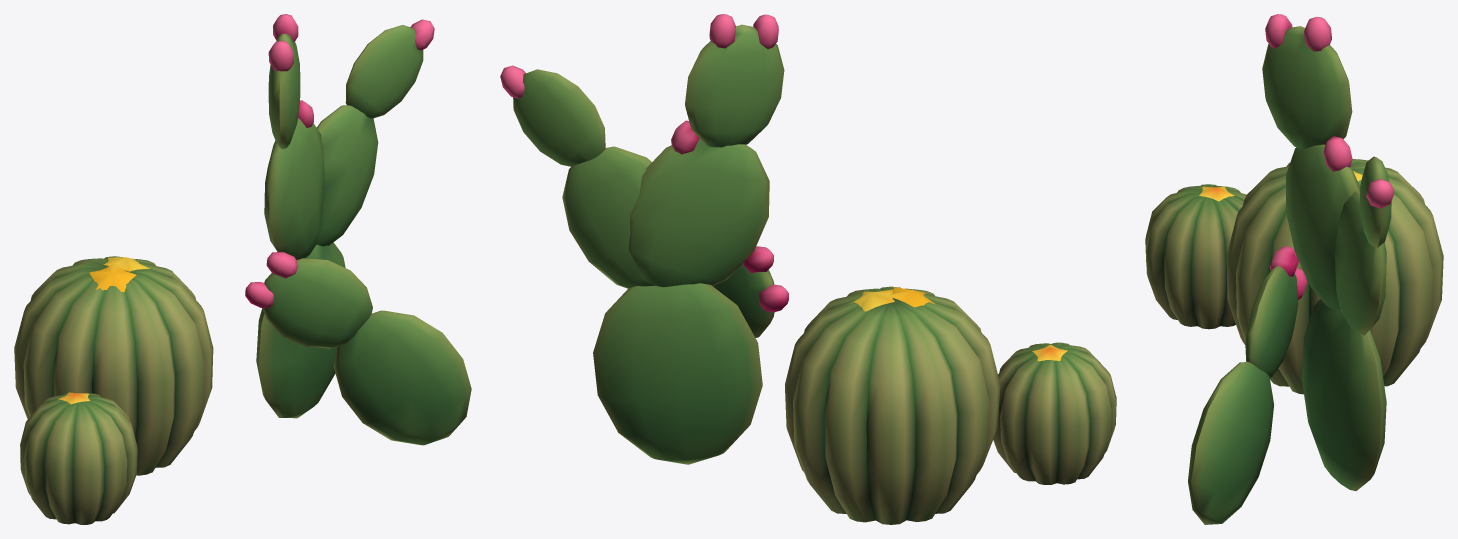
File: cactus_b.glb
3 views of the same model, side by side, from view 1: azimuth 30°, elevation 25°; view 2: azimuth 150°, elevation 25°; view 3: azimuth 270°, elevation 25° (orthographic). The views are drawn at different scales.
Visible parts, largest first — view 1: cactus_b; view 2: cactus_b; view 3: cactus_b.
Part boxes in pixels (box(x1,y1,x2,y2)): cactus_b: box(14, 14, 471, 524); cactus_b: box(500, 14, 1116, 524); cactus_b: box(1145, 14, 1443, 524).
Bounding box in the file's own units: 1.77 × 1.46 × 0.8635.
